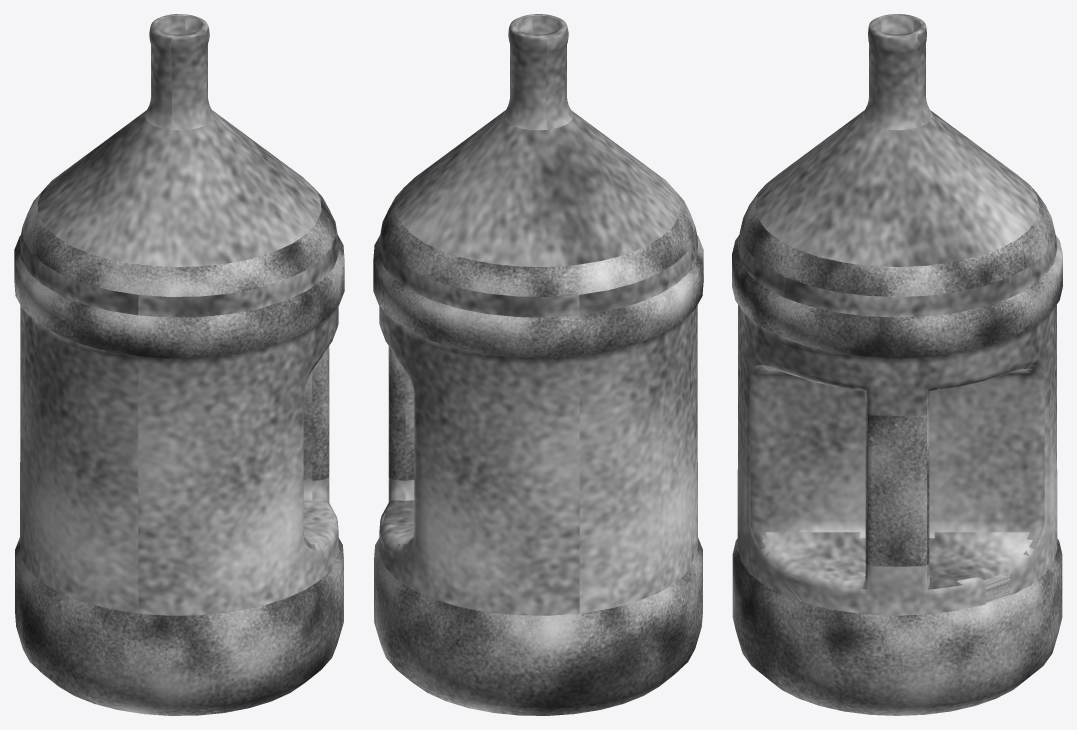
The model's file is jug_liquid.fbx.
3 renders of one model, left to right at view 1: azimuth 30°, elevation 25°; view 2: azimuth 150°, elevation 25°; view 3: azimuth 270°, elevation 25°, orthographic.
Parts seen in each view (by area): view 1: Cylinder; view 2: Cylinder; view 3: Cylinder.
Part boxes in pixels (bbox=[...]): Cylinder: bbox=[14, 14, 344, 715]; Cylinder: bbox=[373, 14, 703, 715]; Cylinder: bbox=[732, 14, 1062, 715].
Size of the model in its own units: 206 by 438 by 206.
